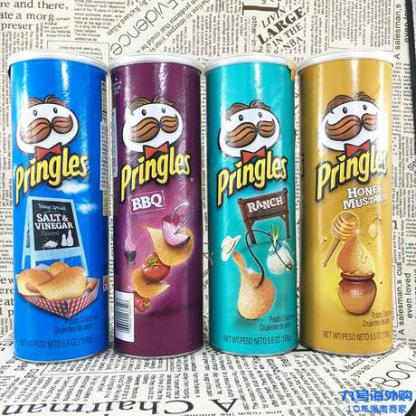potatochip: (7, 52, 113, 367), (300, 47, 398, 355), (109, 54, 207, 358), (207, 55, 301, 356)
